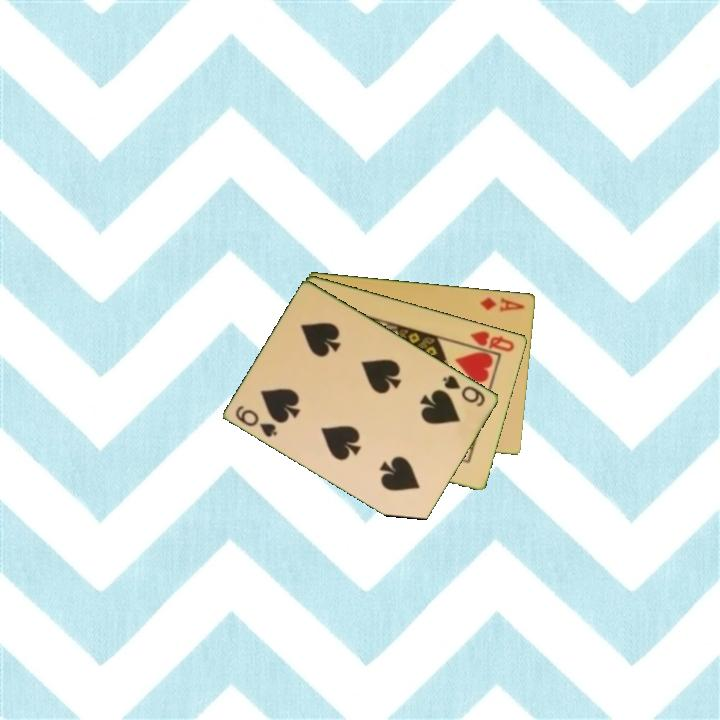6s: (440, 371, 488, 409), (232, 402, 280, 440)
Ad: (477, 294, 527, 315)
Qh: (467, 327, 518, 354)
